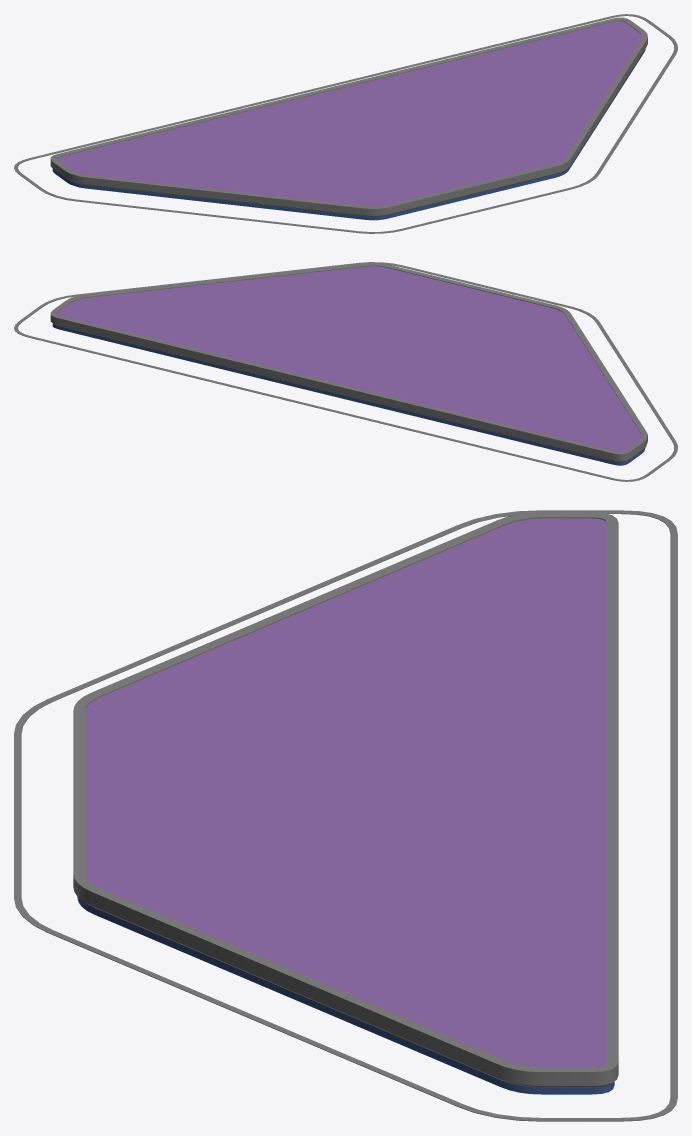
Rendered from MOb_Floor_Add_01.fbx.
The picture shows the model from 3 angles, top to bottom: view 1: azimuth 30°, elevation 25°; view 2: azimuth 150°, elevation 25°; view 3: azimuth 270°, elevation 25°; orthographic projection. The views are drawn at different scales.
Parts seen in each view (by area): view 1: MOb_Floor_Add_01; view 2: MOb_Floor_Add_01; view 3: MOb_Floor_Add_01.
Part boxes in pixels (bbox=[...]): MOb_Floor_Add_01: bbox=[14, 14, 677, 233]; MOb_Floor_Add_01: bbox=[14, 262, 677, 481]; MOb_Floor_Add_01: bbox=[14, 510, 677, 1121].
Size of the model in its own units: 11.39 by 0.2097 by 5.24.
